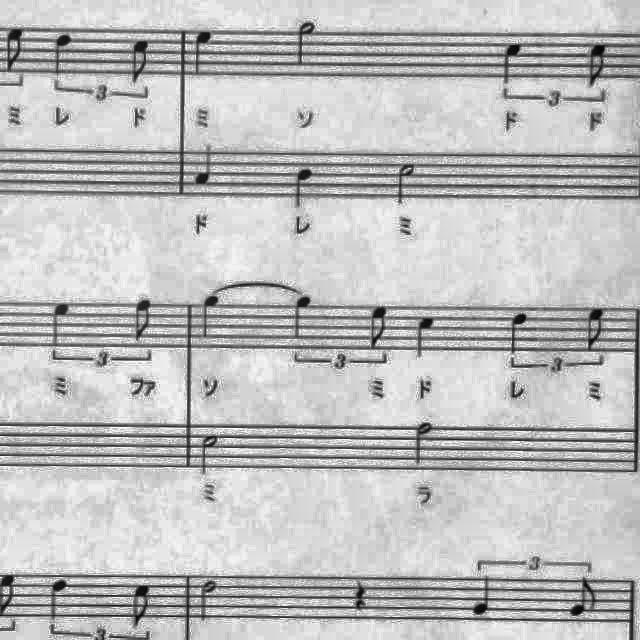Eighth-note: (580, 303, 614, 357), (565, 574, 603, 622), (126, 34, 158, 88), (0, 23, 32, 77), (362, 300, 394, 352), (583, 38, 615, 90), (128, 294, 160, 346), (127, 578, 157, 630)
Half-note: (288, 15, 322, 70), (409, 417, 439, 471), (393, 156, 423, 208), (194, 574, 223, 626), (196, 429, 224, 479)
Quarter-note: (45, 296, 79, 356), (410, 310, 442, 366), (188, 24, 220, 80), (196, 290, 228, 346), (48, 30, 80, 84), (498, 38, 530, 92), (190, 140, 223, 192), (504, 308, 536, 360), (288, 162, 320, 212), (289, 292, 319, 344), (468, 572, 500, 620), (44, 572, 72, 624)
Quarter-rest: (346, 572, 374, 616)
